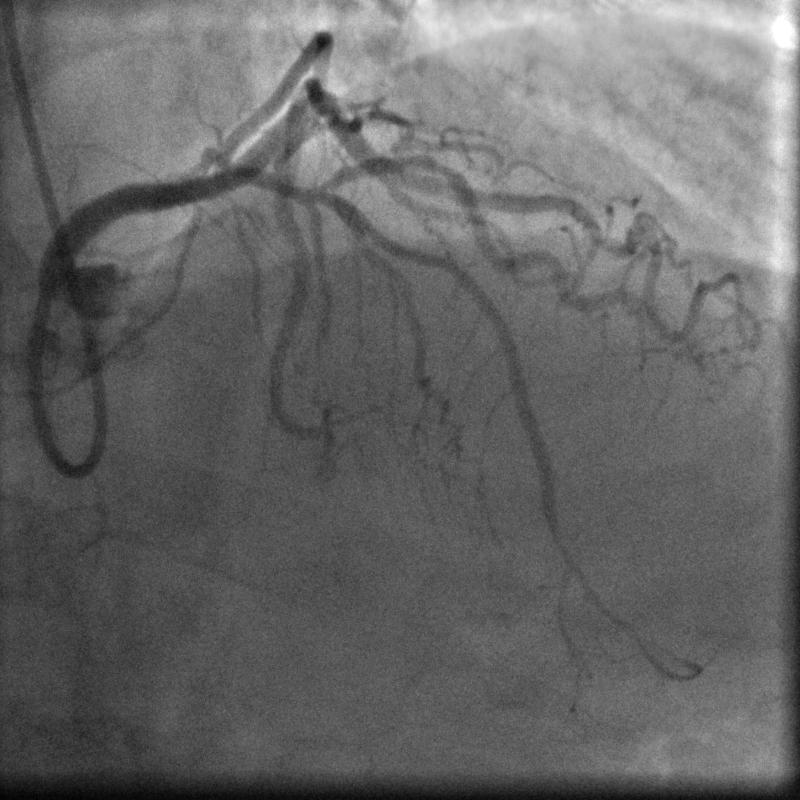Stenosis: (413, 148, 462, 190)
